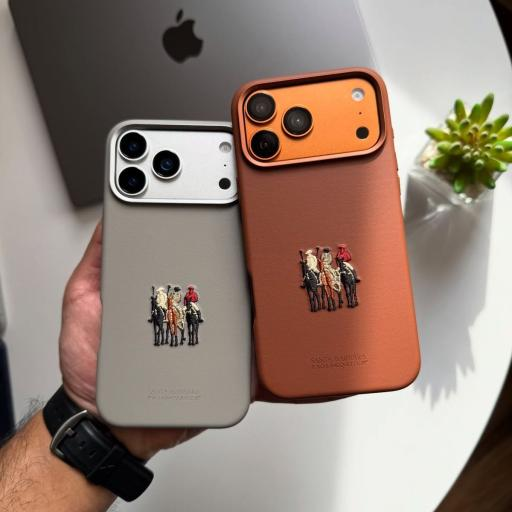corridor: (9, 0, 377, 206)
curb: (232, 68, 420, 400), (96, 120, 252, 427)
